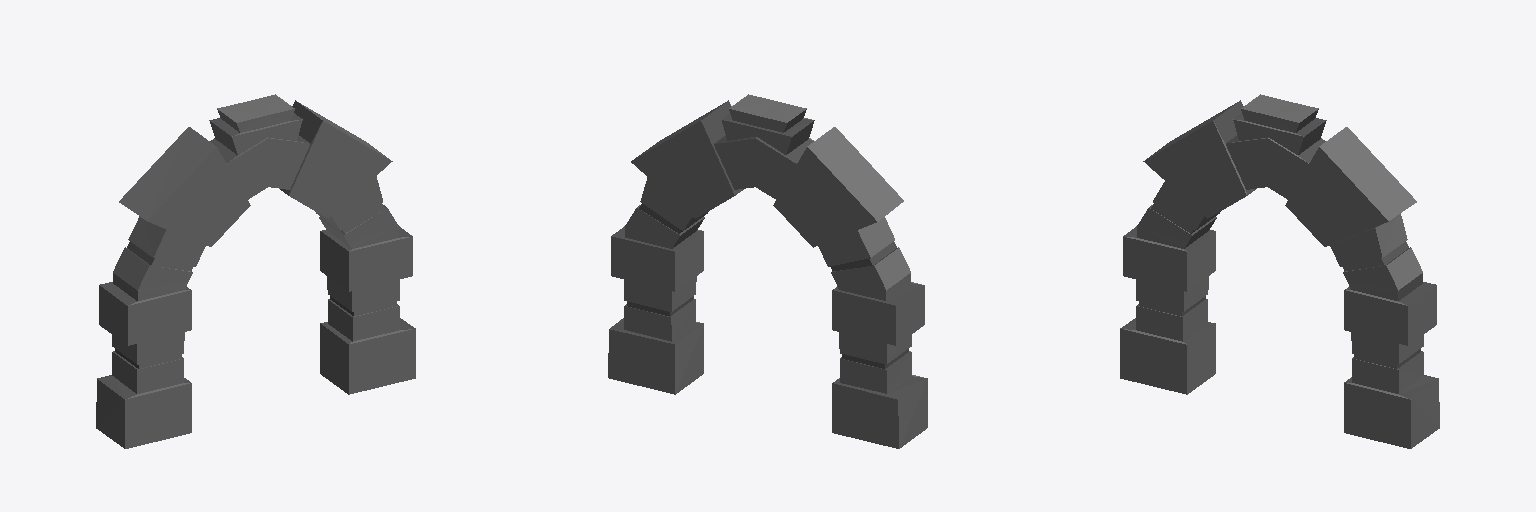
3 renders of one model, left to right at view 1: azimuth 30°, elevation 25°; view 2: azimuth 150°, elevation 25°; view 3: azimuth 330°, elevation 25°, orthographic.
Parts seen in each view (by area): view 1: DoorFrame; view 2: DoorFrame; view 3: DoorFrame.
Part boxes in pixels (x1,y1,x2,y2): DoorFrame: (96, 94, 415, 448); DoorFrame: (608, 94, 927, 448); DoorFrame: (1120, 94, 1439, 448).
Size of the model in its own units: 13.96 by 13.51 by 2.4.
1 materials, 1 textured.